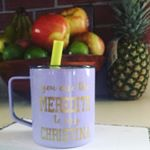cups: (6, 63, 99, 150)
